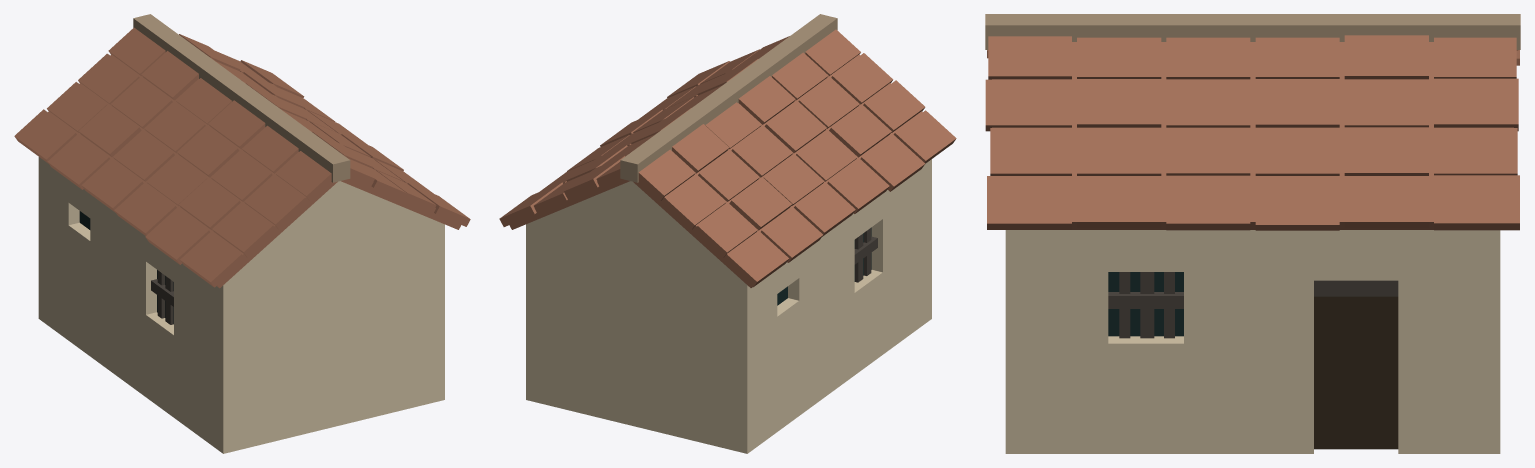
File: Building_mode_L2_Northhouse007.fbx
3 views of the same model, side by side, from view 1: azimuth 30°, elevation 25°; view 2: azimuth 150°, elevation 25°; view 3: azimuth 270°, elevation 25° (orthographic). The views are drawn at different scales.
Visible parts, largest first — view 1: Building_mode_L2_Northhouse007; view 2: Building_mode_L2_Northhouse007; view 3: Building_mode_L2_Northhouse007.
Boxes of the visible parts, x1=… form: Building_mode_L2_Northhouse007: x1=14, y1=14, x2=470, y2=453; Building_mode_L2_Northhouse007: x1=499, y1=14, x2=956, y2=453; Building_mode_L2_Northhouse007: x1=985, y1=14, x2=1520, y2=453.
Bounding box in the file's own units: 2.86 × 2.83 × 3.79.
